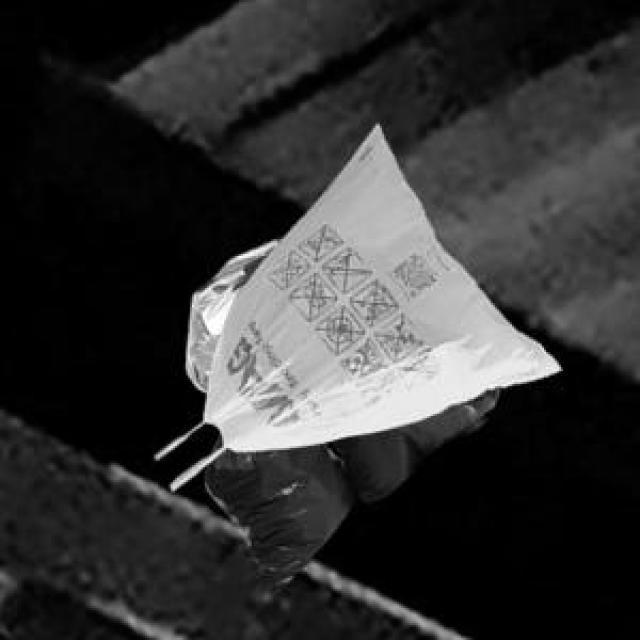miscellaneous trash: (203, 399, 482, 589), (181, 235, 400, 405)
